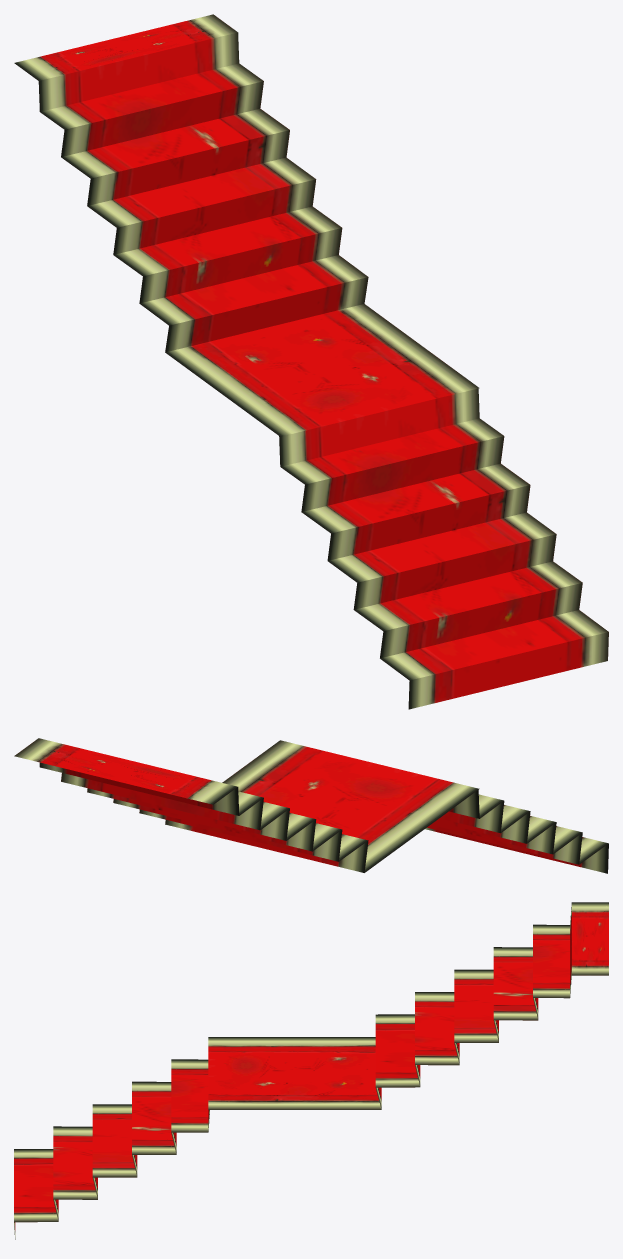
File: Treppe_Bank_2742.glb
3 views of the same model, one above another, from view 1: azimuth 30°, elevation 25°; view 2: azimuth 150°, elevation 25°; view 3: azimuth 270°, elevation 25° (orthographic). The views are drawn at different scales.
Visible parts, largest first — view 1: pPlaneShape54, pPlaneShape56, pPlaneShape55, pPlaneShape57; view 2: pPlaneShape55, pPlaneShape56, pPlaneShape54, pPlaneShape57; view 3: pPlaneShape56, pPlaneShape54, pPlaneShape55, pPlaneShape57.
Part boxes in pixels (bbox=[...]): pPlaneShape54: bbox=[279, 388, 608, 709]; pPlaneShape56: bbox=[38, 32, 368, 352]; pPlaneShape55: bbox=[165, 304, 479, 436]; pPlaneShape57: bbox=[14, 14, 237, 80]; pPlaneShape55: bbox=[222, 740, 479, 872]; pPlaneShape56: bbox=[39, 762, 368, 872]; pPlaneShape54: bbox=[425, 790, 608, 873]; pPlaneShape57: bbox=[14, 738, 237, 804]; pPlaneShape56: bbox=[375, 902, 571, 1108]; pPlaneShape54: bbox=[14, 1059, 209, 1239]; pPlaneShape55: bbox=[208, 1037, 381, 1109]; pPlaneShape57: bbox=[572, 902, 608, 975].
Bounding box in the file's own units: 0.227 × 0.3891 × 0.7797.
4 materials, 4 textured.
